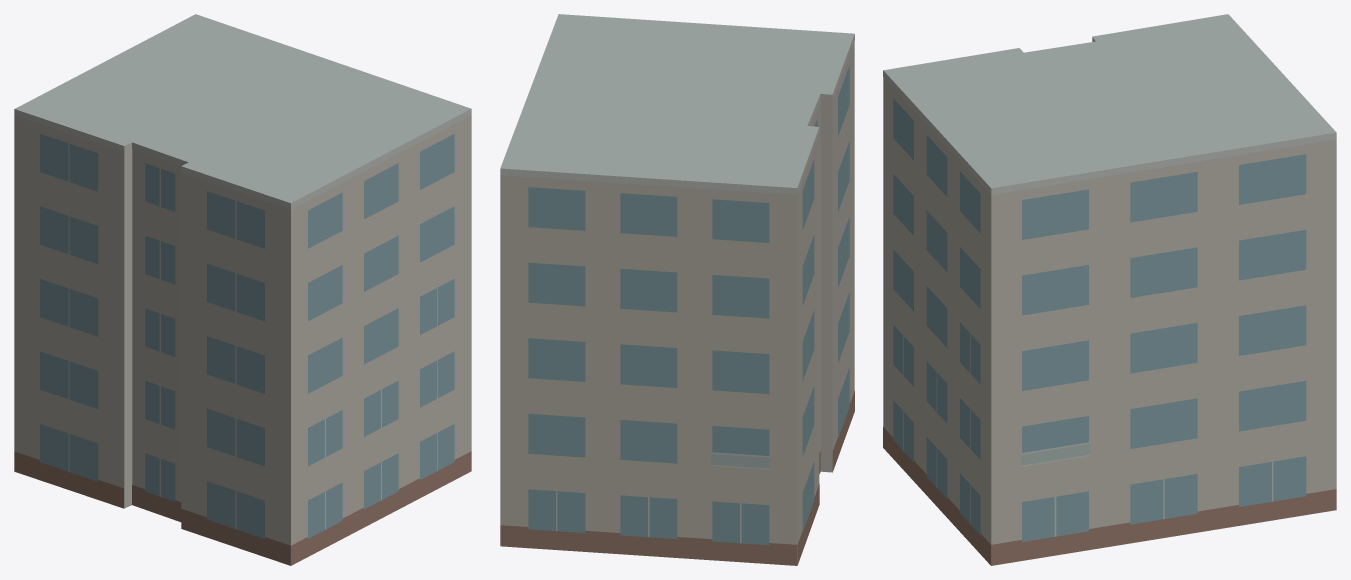
Rendered from survey-upis-32851558.glb.
3 renders of one model, left to right at view 1: azimuth 30°, elevation 25°; view 2: azimuth 150°, elevation 25°; view 3: azimuth 270°, elevation 25°, orthographic. The views are drawn at different scales.
Visible parts, largest first — view 1: survey-upis-32851558.tmp; view 2: survey-upis-32851558.tmp; view 3: survey-upis-32851558.tmp.
Part boxes in pixels (x1=…): survey-upis-32851558.tmp: x1=14, y1=14, x2=471, y2=565; survey-upis-32851558.tmp: x1=500, y1=14, x2=854, y2=565; survey-upis-32851558.tmp: x1=883, y1=14, x2=1336, y2=565.
Size of the model in its own units: 13.58 by 13.7 by 14.92.
